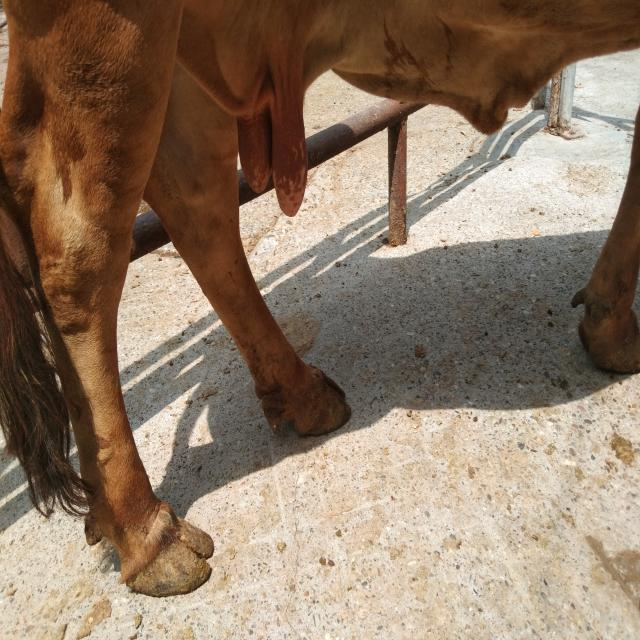Hoof: (119, 502, 214, 598), (260, 361, 351, 438), (571, 286, 639, 375)
